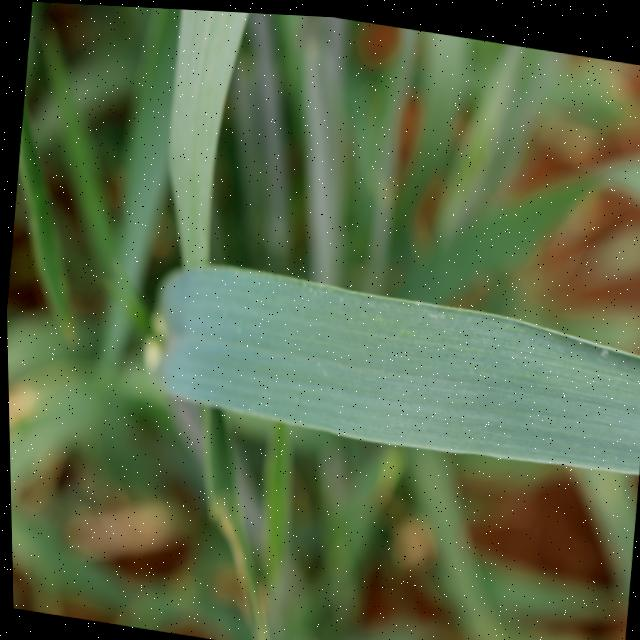healthy_wheat: (92, 229, 640, 502), (112, 5, 273, 310)
